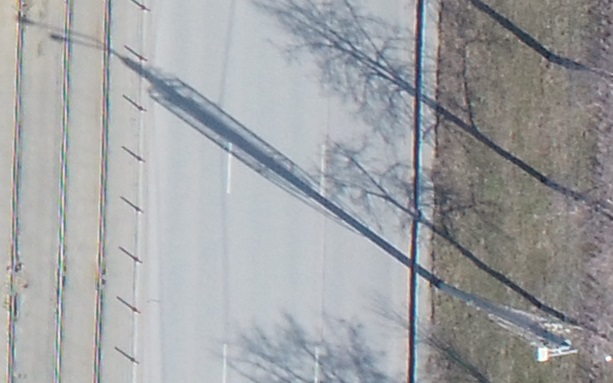opora: (368, 216, 585, 366)
